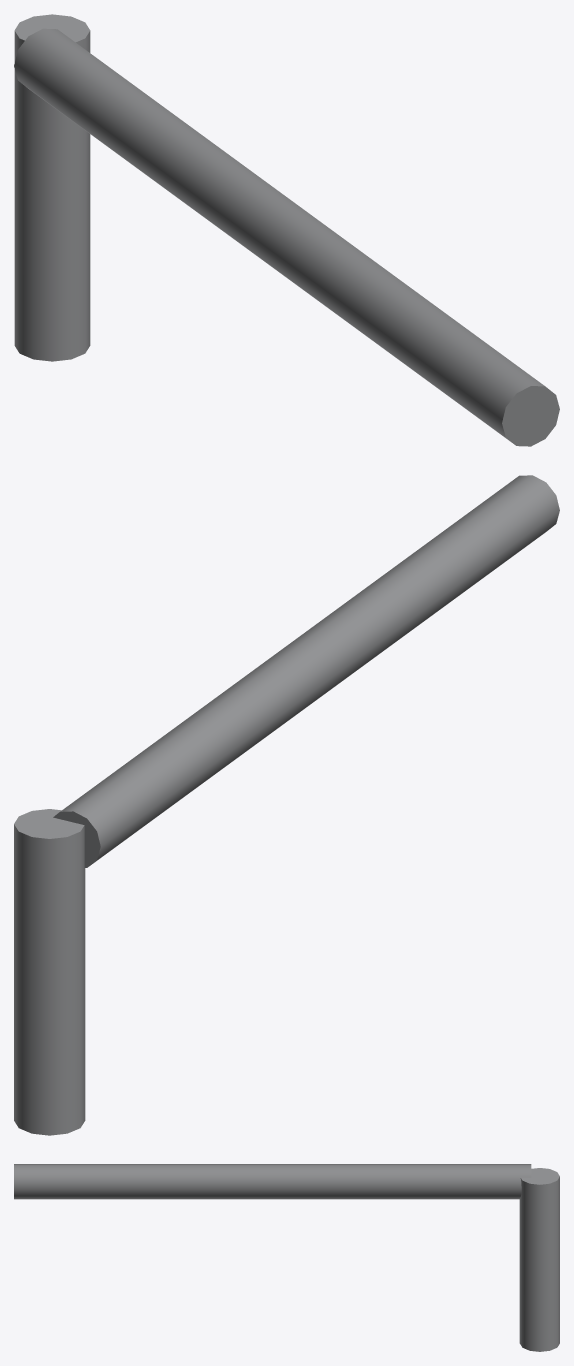
3 views of the same model, one above another, from view 1: azimuth 30°, elevation 25°; view 2: azimuth 150°, elevation 25°; view 3: azimuth 270°, elevation 25° (orthographic). The views are drawn at different scales.
Bounding box in the file's own units: 0.2051 × 0.8091 × 2.31.
